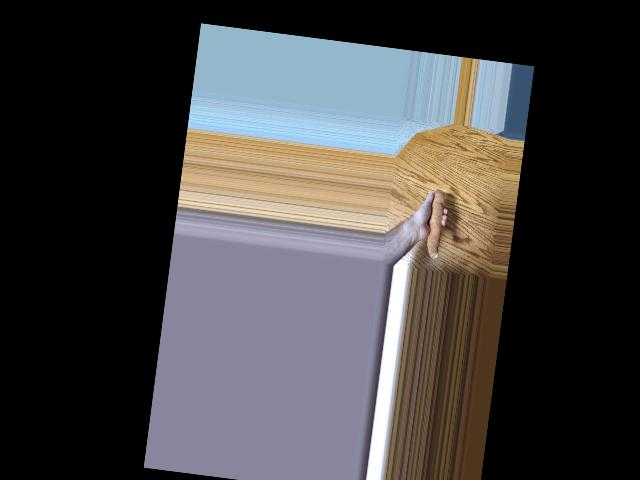sweet_potato: (417, 187, 447, 260)
